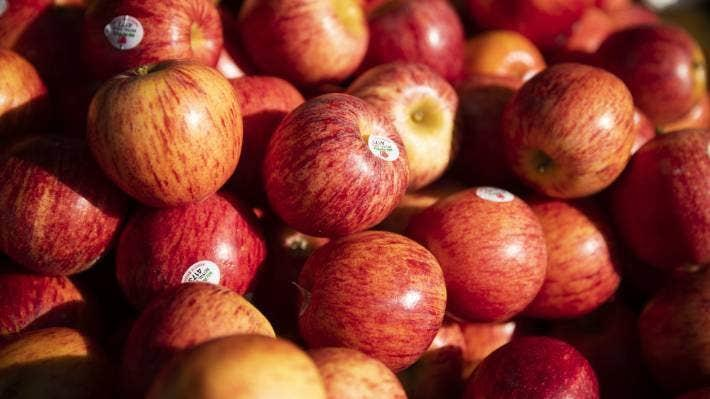apple: (79, 57, 243, 208), (262, 92, 411, 239), (294, 232, 449, 373), (503, 61, 651, 201), (412, 189, 545, 324), (1, 146, 128, 278), (119, 196, 270, 300), (606, 129, 710, 279), (353, 60, 460, 187), (79, 1, 226, 89), (525, 199, 623, 316), (245, 1, 365, 89), (227, 76, 303, 200), (1, 48, 50, 130)
